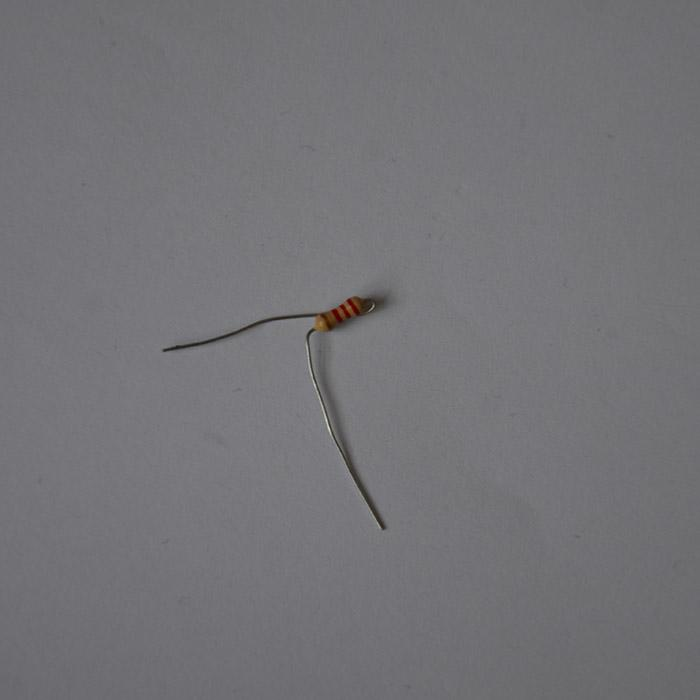resistor: (313, 295, 372, 332)
